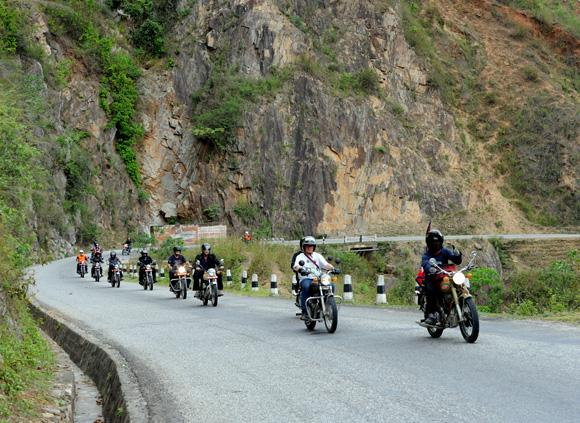bike: (419, 249, 493, 352), (294, 258, 349, 334), (188, 259, 233, 309)
